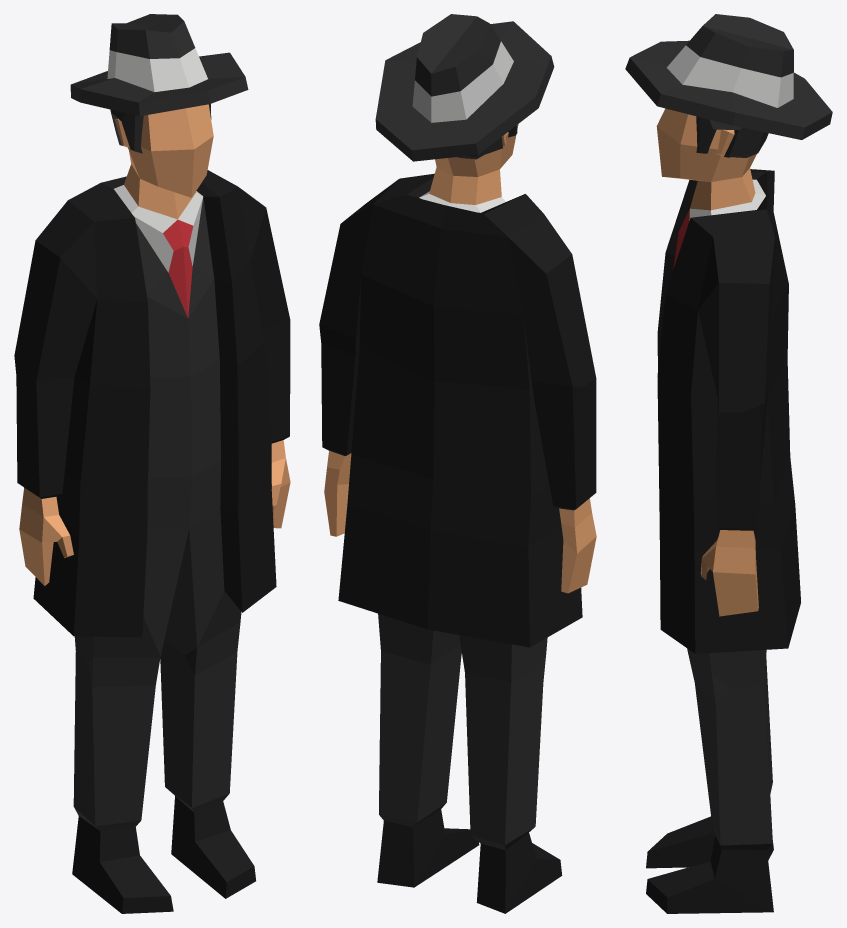
Rendered from people_man-mafia.fbx.
3 views of the same model, side by side, from view 1: azimuth 30°, elevation 25°; view 2: azimuth 150°, elevation 25°; view 3: azimuth 270°, elevation 25° (orthographic).
Parts seen in each view (by area): view 1: people_man_mafia; view 2: people_man_mafia; view 3: people_man_mafia.
Part boxes in pixels (x1,y1,x2,y2): people_man_mafia: [14, 14, 290, 913]; people_man_mafia: [319, 14, 596, 913]; people_man_mafia: [625, 14, 832, 913].
Size of the model in its own units: 62.19 by 200 by 43.85.
